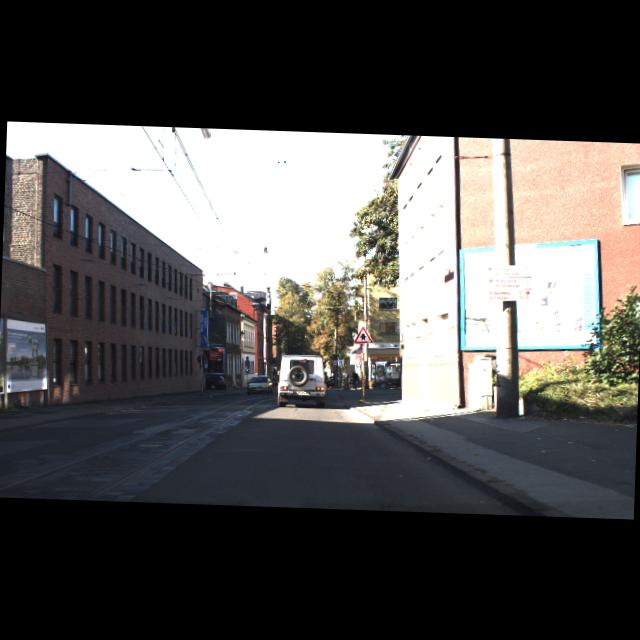danger: (352, 326, 373, 344)
